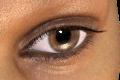eye: (49, 28, 80, 52)
